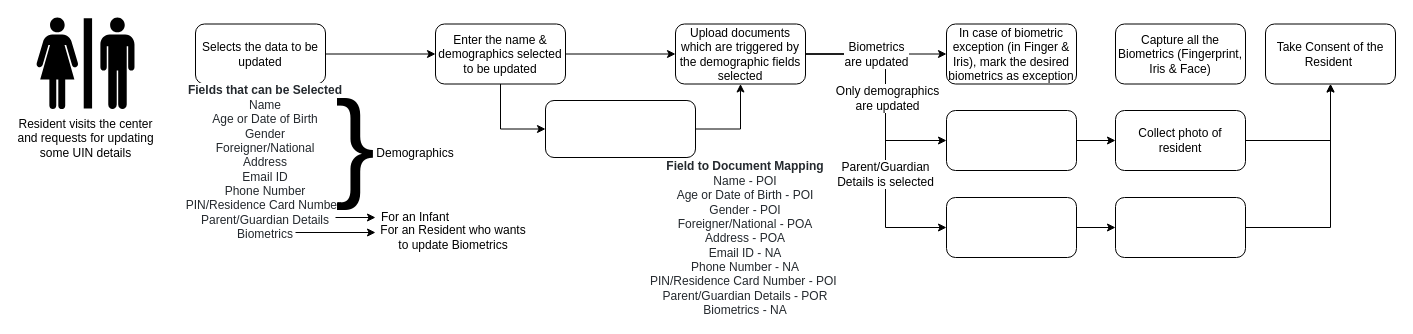
Image size: 1413x334. Some labels were removed from this diagram. Each missing label, with the centre of its shape:
Capture one biometrics for authentication (from Finger & Iris): point (1011, 140)
Capture Parent or Guardian's biometrics for authentication (from Finger & Iris: point (1011, 227)
Collect photo of Infant: point (1180, 227)
Enter the Parent/Guardian UIN/RID, if Parent/Guardian is selected: point (620, 129)
